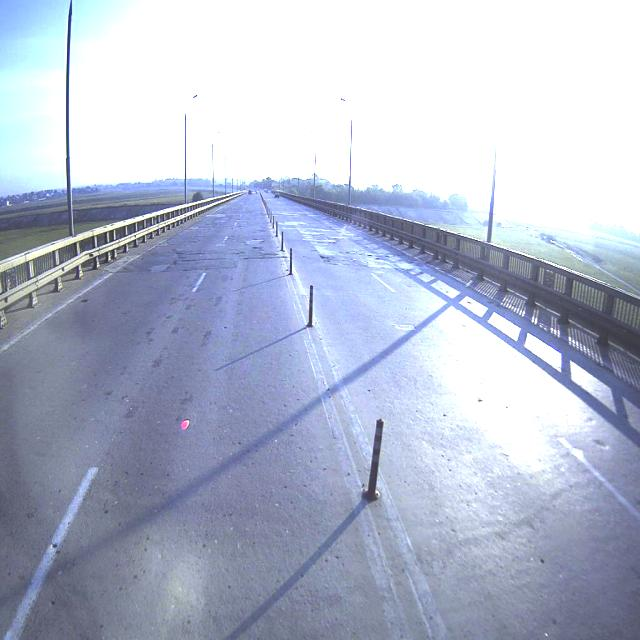road: (0, 192, 640, 639)
